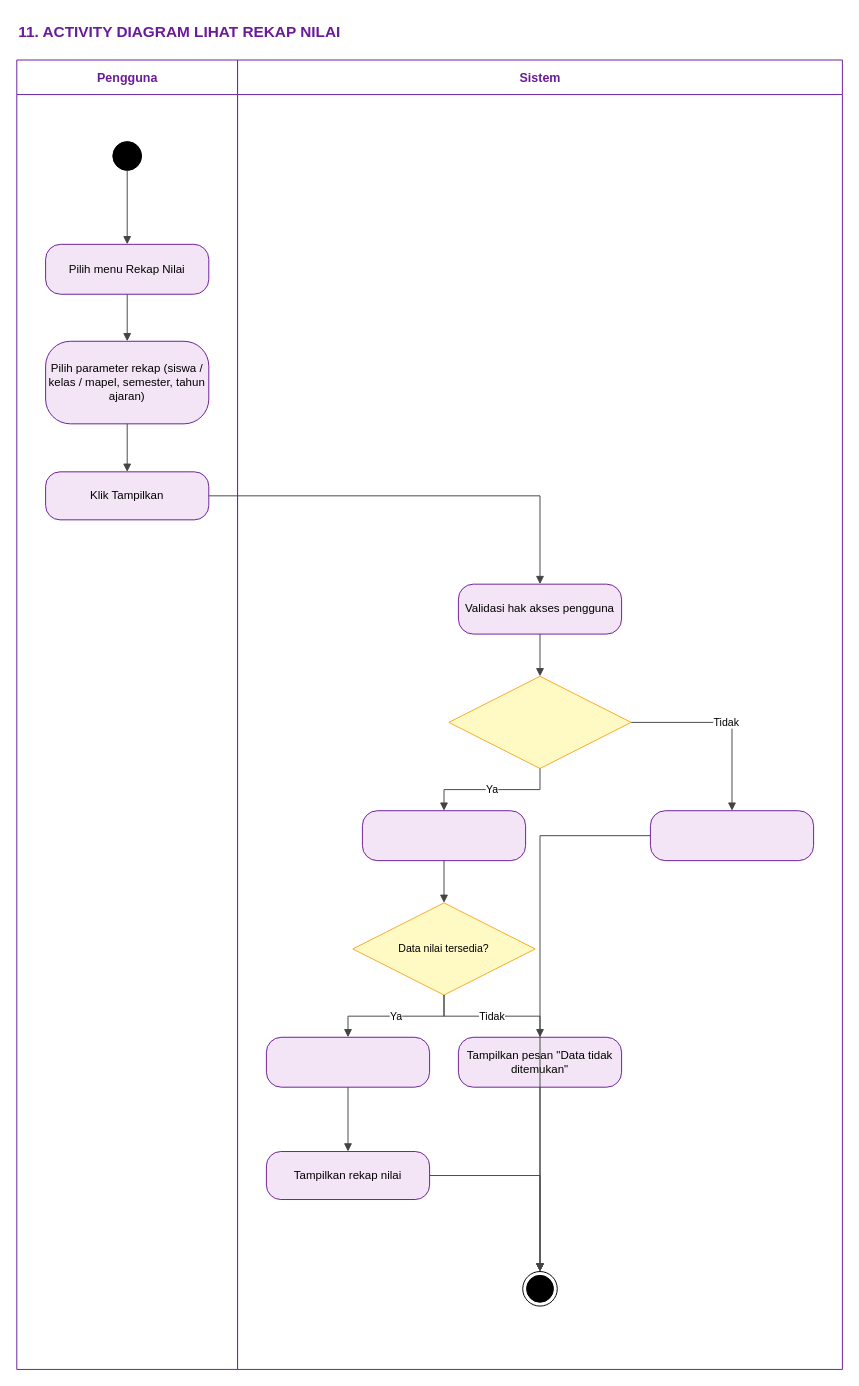
This 859x1386 diagram has some shape labels left out. The shapes that lost their labels are listed below. From the top down, each one's centre as x and y in pixels, then its label:
At pixel 539 721: "Berhak melihat data?".
At pixel 443 835: "Ambil data nilai dari database".
At pixel 731 835: "Tampilkan pesan akses ditolak".
At pixel 347 1061: "Hitung nilai akhir sesuai formula sekolah".
